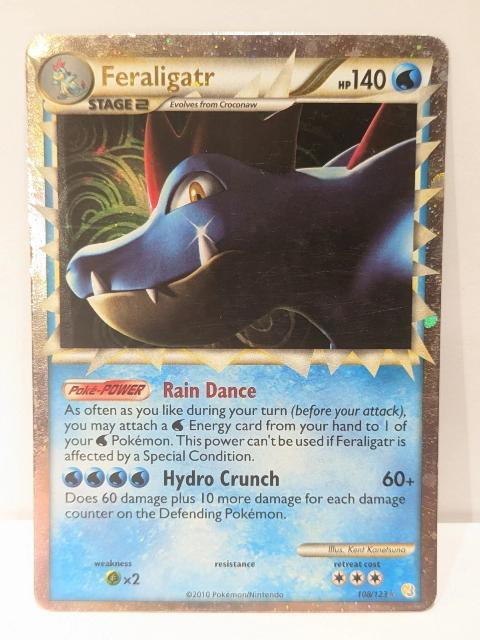Card: (19, 29, 453, 616)
Name: (92, 59, 223, 96)
